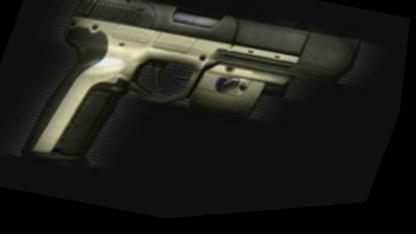pistol: (10, 0, 373, 231)
